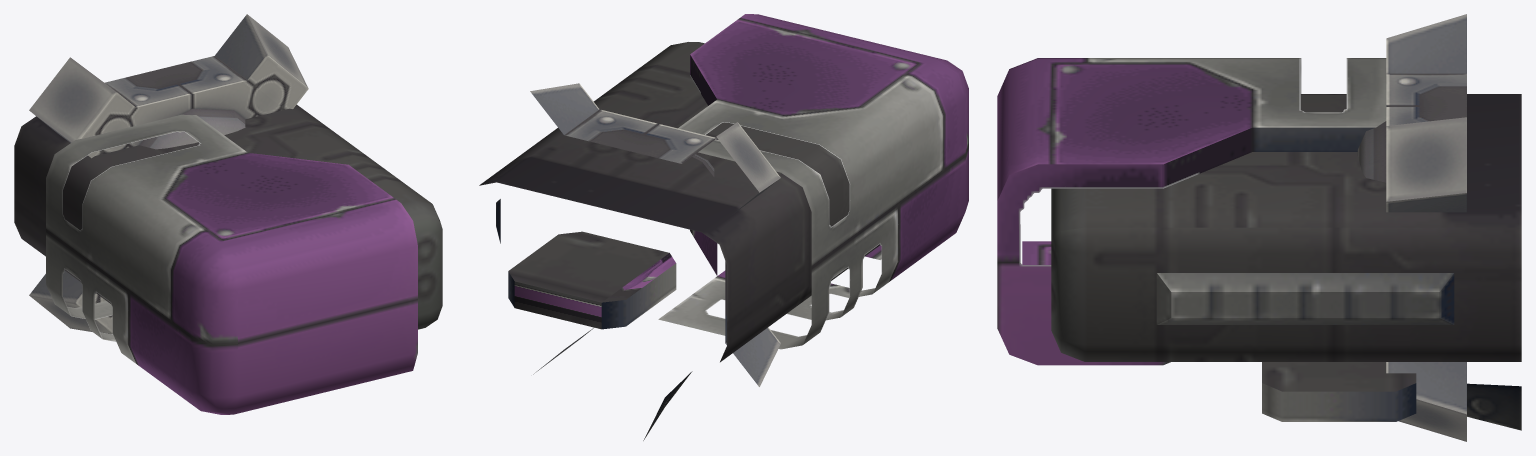
Rendered from model_event_alchemy.glb.
3 renders of one model, left to right at view 1: azimuth 30°, elevation 25°; view 2: azimuth 150°, elevation 25°; view 3: azimuth 270°, elevation 25°, orthographic. The views are drawn at different scales.
Parts seen in each view (by area): view 1: energy.model_event_alchemy-MeshNodes["vendingmachine_01"], energy.turret_01_base-Mesh[0]; view 2: energy.model_event_alchemy-MeshNodes["vendingmachine_01"], energy.turret_01_base-Mesh[0]; view 3: energy.model_event_alchemy-MeshNodes["vendingmachine_01"], energy.turret_01_base-Mesh[0].
Part boxes in pixels (bbox=[...]): energy.model_event_alchemy-MeshNodes["vendingmachine_01"]: bbox=[14, 104, 442, 414]; energy.turret_01_base-Mesh[0]: bbox=[29, 14, 308, 334]; energy.model_event_alchemy-MeshNodes["vendingmachine_01"]: bbox=[479, 14, 968, 440]; energy.turret_01_base-Mesh[0]: bbox=[530, 83, 780, 386]; energy.model_event_alchemy-MeshNodes["vendingmachine_01"]: bbox=[997, 58, 1521, 430]; energy.turret_01_base-Mesh[0]: bbox=[1357, 14, 1466, 441].
Size of the model in its own units: 1.64 by 1.57 by 2.18.
Materials: 3 (3 with a texture image).
